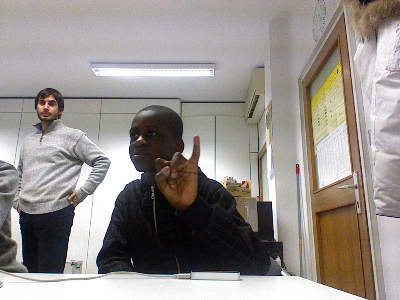小指: (153, 134, 200, 210)
